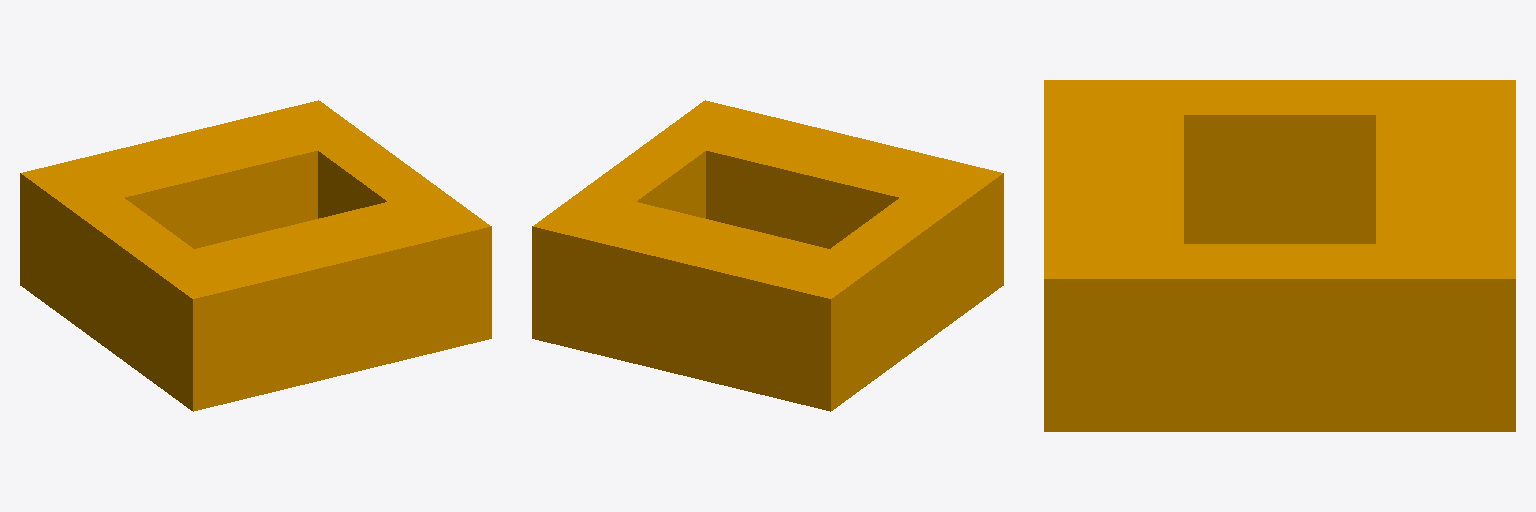
The robot description file, URDF, robot "factory_rectangular_hole_16mm":
<?xml version="1.0"?>
<robot name="factory_rectangular_hole_16mm">
    <link name="factory_rectangular_hole_16mm">
        <visual>
            <geometry>
                <mesh filename="../mesh/factory_insertion/factory_rectangular_hole_16mm_subdiv_3x.obj"/>
            </geometry>
        </visual>
        <collision>
            <geometry>
                <mesh filename="../mesh/factory_insertion/factory_rectangular_hole_16mm_subdiv_3x.obj"/>
            </geometry>
            <sdf resolution="256"/>
        </collision>
    </link>
</robot>

--- Render facts (derived) ---
Views: 3 orthographic renders of the robot side by side, from view 1: azimuth 30°, elevation 25°; view 2: azimuth 150°, elevation 25°; view 3: azimuth 270°, elevation 25°.
Robot: factory_rectangular_hole_16mm — 1 links, 0 joints (none); root link factory_rectangular_hole_16mm; default pose: all joints at 0.
Visible links, largest first — view 1: factory_rectangular_hole_16mm; view 2: factory_rectangular_hole_16mm; view 3: factory_rectangular_hole_16mm.
Link boxes in pixels (<box>): factory_rectangular_hole_16mm: <box>20,100,491,411</box>; factory_rectangular_hole_16mm: <box>532,100,1003,411</box>; factory_rectangular_hole_16mm: <box>1044,80,1515,431</box>.
Bounding box of the posed robot: 0.025 × 0.025 × 0.009 m (x, y, z).
1 mesh visuals loaded from 1 distinct referenced files (1 OBJ).